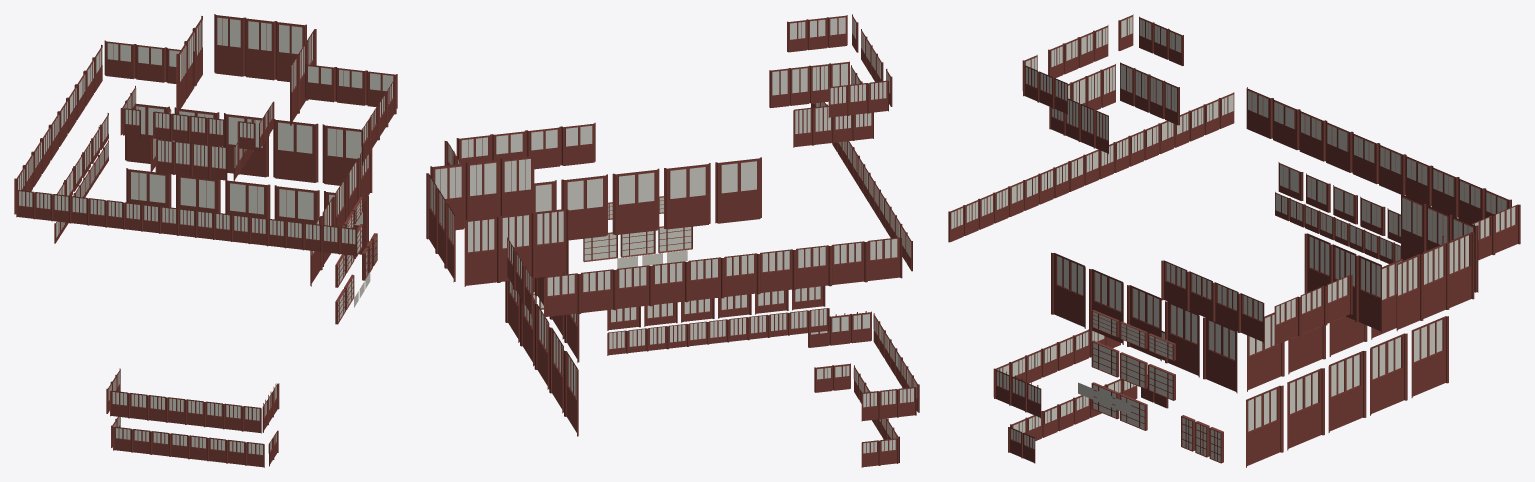
The model's file is fenétre chinoise 01.fbx.
3 views of the same model, side by side, from view 1: azimuth 30°, elevation 25°; view 2: azimuth 150°, elevation 25°; view 3: azimuth 270°, elevation 25° (orthographic). The views are drawn at different scales.
Visible parts, largest first — view 1: Plane.460, Plane.185, Plane.294, Plane.281, Plane.345, Plane.275, Plane.295, Plane.276, Plane.286, Plane.287, Plane.461, Plane.817 (+11 smaller); view 2: Plane.295, Plane.817, Plane.286, Plane.341, Plane.296, Plane.294, Plane.463, Plane.466, Plane.807, Plane.808, Plane.515, Plane.460 (+10 smaller); view 3: Plane.294, Plane.295, Plane.817, Plane.460, Plane.286, Plane.185, Plane.281, Plane.296, Plane.463, Plane.276, Plane.341, Plane.466 (+14 smaller).
Part boxes in pixels (x1,y1,x2,y2): Plane.460: [16, 190, 357, 256]; Plane.185: [125, 102, 361, 185]; Plane.294: [126, 168, 368, 254]; Plane.281: [214, 14, 306, 81]; Plane.345: [110, 390, 261, 433]; Plane.275: [113, 426, 264, 467]; Plane.295: [14, 45, 102, 214]; Plane.276: [305, 63, 397, 108]; Plane.286: [176, 16, 316, 125]; Plane.287: [104, 40, 196, 86]; Plane.461: [155, 139, 227, 180]; Plane.817: [310, 149, 372, 286]; Plane.295: [544, 237, 902, 317]; Plane.817: [534, 157, 761, 240]; Plane.286: [430, 155, 568, 286]; Plane.341: [607, 308, 829, 355]; Plane.296: [456, 122, 595, 169]; Plane.294: [505, 281, 578, 436]; Plane.463: [607, 286, 825, 330]; Plane.466: [787, 15, 888, 117]; Plane.807: [769, 61, 849, 107]; Plane.808: [793, 105, 873, 147]; Plane.515: [583, 226, 692, 262]; Plane.460: [811, 102, 912, 271]; Plane.294: [1246, 316, 1448, 467]; Plane.295: [1246, 87, 1511, 223]; Plane.817: [1051, 252, 1237, 393]; Plane.460: [948, 92, 1234, 242]; Plane.286: [1304, 193, 1478, 332]; Plane.185: [1247, 258, 1402, 391]; Plane.281: [1396, 232, 1474, 331]; Plane.296: [1161, 260, 1264, 343]; Plane.463: [1278, 162, 1400, 243]; Plane.276: [1274, 275, 1352, 346]; Plane.341: [1275, 192, 1400, 263]; Plane.466: [1023, 16, 1183, 114].
Size of the model in its own units: 49.62 by 40.5 by 54.06.
